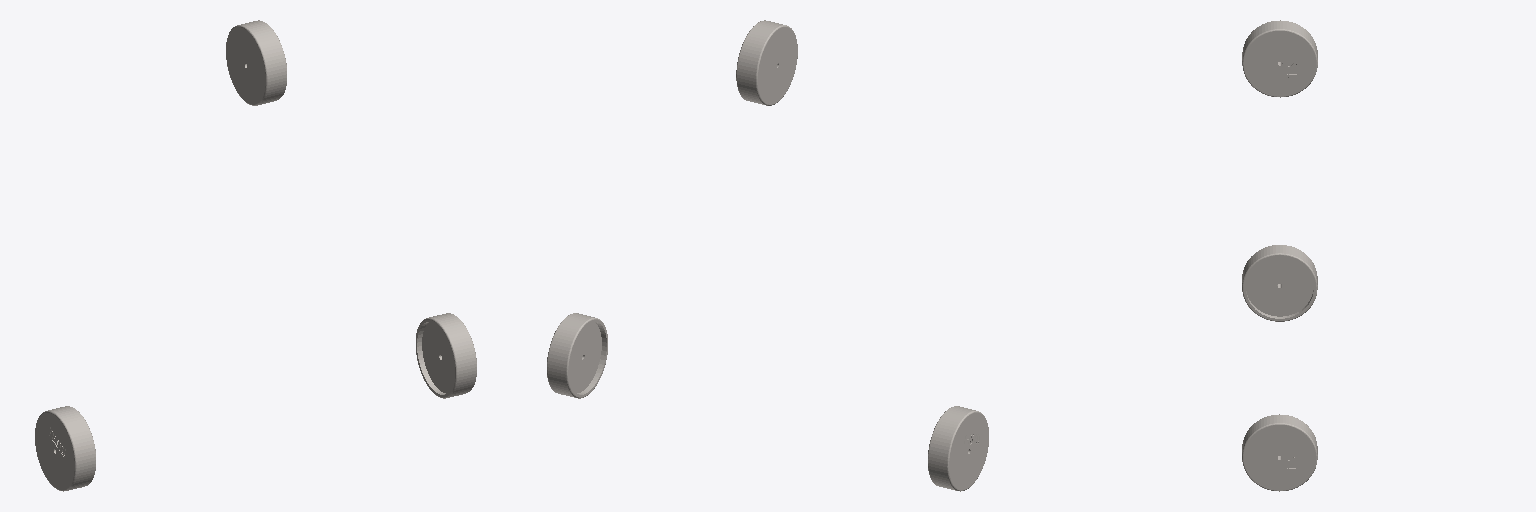
robot.urdf — Prototype:
<?xml version="1.0" encoding="utf-8"?>
<!-- This URDF was automatically created by SolidWorks to URDF Exporter! Originally created by [author] ([email redacted]) 
     Commit Version: 1.5.1-0-g916b5db  Build Version: 1.5.7152.31018
     For more information, please see http://wiki.ros.org/sw_urdf_exporter -->
<robot
  name="Prototype">
  <link
    name="base_link">
    <inertial>
      <origin
        xyz="-0.00606939404827942 0.0201490999952706 0.843082728351589"
        rpy="0 0 0" />
      <mass
        value="6.9314537629567" />
      <inertia
        ixx="0.0232965028672793"
        ixy="-2.6181529801014E-07"
        ixz="-8.22791912855144E-07"
        iyy="0.0242233322197356"
        iyz="-1.53624849402866E-05"
        izz="0.0151111822650949" />
    </inertial>
    <visual>
      <origin
        xyz="0 0 0"
        rpy="0 0 0" />
      <geometry>
        <mesh
          filename="package://Prototype/meshes/base_link.STL" />
      </geometry>
      <material
        name="">
        <color
          rgba="0.752941176470588 0.752941176470588 0.752941176470588 1" />
      </material>
    </visual>
    <collision>
      <origin
        xyz="0 0 0"
        rpy="0 0 0" />
      <geometry>
        <mesh
          filename="package://Prototype/meshes/base_link.STL" />
      </geometry>
    </collision>
  </link>
  <link
    name="RFW">
    <inertial>
      <origin
        xyz="0.017684 0 0"
        rpy="0 0 0" />
      <mass
        value="0.19359" />
      <inertia
        ixx="0.00025308"
        ixy="-1.8245E-21"
        ixz="1.6728E-21"
        iyy="0.00013682"
        iyz="-3.3881E-21"
        izz="0.00013682" />
    </inertial>
    <visual>
      <origin
        xyz="0 0 0"
        rpy="0 0 0" />
      <geometry>
        <mesh
          filename="package://Prototype/meshes/RFW.STL" />
      </geometry>
      <material
        name="">
        <color
          rgba="1 1 1 1" />
      </material>
    </visual>
    <collision>
      <origin
        xyz="0 0 0"
        rpy="0 0 0" />
      <geometry>
        <mesh
          filename="package://Prototype/meshes/RFW.STL" />
      </geometry>
    </collision>
  </link>
  <joint
    name="RFW"
    type="continuous">
    <origin
      xyz="-0.17835 -0.92522 -0.073373"
      rpy="1.226 0 3.1416" />
    <parent
      link="base_link" />
    <child
      link="RFW" />
    <axis
      xyz="1 0 0" />
    <limit
      effort="3.1"
      velocity="7" />
  </joint>
  <link
    name="LFW">
    <inertial>
      <origin
        xyz="0.017684 0 0"
        rpy="0 0 0" />
      <mass
        value="0.19359" />
      <inertia
        ixx="0.00025308"
        ixy="-5.8809E-37"
        ixz="5.171E-21"
        iyy="0.00013682"
        iyz="7.1756E-37"
        izz="0.00013682" />
    </inertial>
    <visual>
      <origin
        xyz="0 0 0"
        rpy="0 0 0" />
      <geometry>
        <mesh
          filename="package://Prototype/meshes/LFW.STL" />
      </geometry>
      <material
        name="">
        <color
          rgba="1 1 1 1" />
      </material>
    </visual>
    <collision>
      <origin
        xyz="0 0 0"
        rpy="0 0 0" />
      <geometry>
        <mesh
          filename="package://Prototype/meshes/LFW.STL" />
      </geometry>
    </collision>
  </link>
  <joint
    name="LFW"
    type="continuous">
    <origin
      xyz="0.16515 -0.92522 -0.073371"
      rpy="1.5708 0 0" />
    <parent
      link="base_link" />
    <child
      link="LFW" />
    <axis
      xyz="1 0 0" />
    <limit
      effort="3.1"
      velocity="7" />
  </joint>
  <link
    name="RBW">
    <inertial>
      <origin
        xyz="0.017684 0 0"
        rpy="0 0 0" />
      <mass
        value="0.19359" />
      <inertia
        ixx="0.00025308"
        ixy="1.4759E-22"
        ixz="2.2103E-20"
        iyy="0.00013682"
        iyz="-3.1764E-22"
        izz="0.00013682" />
    </inertial>
    <visual>
      <origin
        xyz="0 0 0"
        rpy="0 0 0" />
      <geometry>
        <mesh
          filename="package://Prototype/meshes/RBW.STL" />
      </geometry>
      <material
        name="">
        <color
          rgba="1 1 1 1" />
      </material>
    </visual>
    <collision>
      <origin
        xyz="0 0 0"
        rpy="0 0 0" />
      <geometry>
        <mesh
          filename="package://Prototype/meshes/RBW.STL" />
      </geometry>
    </collision>
  </link>
  <joint
    name="RBW"
    type="continuous">
    <origin
      xyz="-0.17835 -0.75522 -0.073373"
      rpy="-3.1322 0 3.1416" />
    <parent
      link="base_link" />
    <child
      link="RBW" />
    <axis
      xyz="1 0 0" />
    <limit
      effort="3.1"
      velocity="7" />
  </joint>
  <link
    name="LBW">
    <inertial>
      <origin
        xyz="0.017684 0 0"
        rpy="0 0 0" />
      <mass
        value="0.19359" />
      <inertia
        ixx="0.00025308"
        ixy="-5.8809E-37"
        ixz="5.171E-21"
        iyy="0.00013682"
        iyz="7.1756E-37"
        izz="0.00013682" />
    </inertial>
    <visual>
      <origin
        xyz="0 0 0"
        rpy="0 0 0" />
      <geometry>
        <mesh
          filename="package://Prototype/meshes/LBW.STL" />
      </geometry>
      <material
        name="">
        <color
          rgba="1 1 1 1" />
      </material>
    </visual>
    <collision>
      <origin
        xyz="0 0 0"
        rpy="0 0 0" />
      <geometry>
        <mesh
          filename="package://Prototype/meshes/LBW.STL" />
      </geometry>
    </collision>
  </link>
  <joint
    name="LBW"
    type="continuous">
    <origin
      xyz="0.16515 -0.75582 -0.073371"
      rpy="1.5708 0 0" />
    <parent
      link="base_link" />
    <child
      link="LBW" />
    <axis
      xyz="1 0 0" />
    <limit
      effort="3.1"
      velocity="7" />
  </joint>
  <link
    name="RFS">
    <inertial>
      <origin
        xyz="2.7756E-17 1.1102E-16 0.0425"
        rpy="0 0 0" />
      <mass
        value="0.2618" />
      <inertia
        ixx="0.00016635"
        ixy="2.1965E-21"
        ixz="-2.1222E-20"
        iyy="0.00016635"
        iyz="-4.4187E-23"
        izz="1.7453E-05" />
    </inertial>
    <visual>
      <origin
        xyz="0 0 0"
        rpy="0 0 0" />
      <geometry>
        <mesh
          filename="package://Prototype/meshes/RFS.STL" />
      </geometry>
      <material
        name="">
        <color
          rgba="0.77647 0.75686 0.73725 1" />
      </material>
    </visual>
    <collision>
      <origin
        xyz="0 0 0"
        rpy="0 0 0" />
      <geometry>
        <mesh
          filename="package://Prototype/meshes/RFS.STL" />
      </geometry>
    </collision>
  </link>
  <joint
    name="RFS"
    type="prismatic">
    <origin
      xyz="-0.1496 -0.93882 -0.024587"
      rpy="0 0 0" />
    <parent
      link="base_link" />
    <child
      link="RFS" />
    <axis
      xyz="0 0 0" />
    <limit
      lower="0"
      upper="0"
      effort="0"
      velocity="0" />
  </joint>
  <link
    name="LFS">
    <inertial>
      <origin
        xyz="0 1.1102E-16 0.0425"
        rpy="0 0 0" />
      <mass
        value="0.2618" />
      <inertia
        ixx="0.00016635"
        ixy="5.4212E-21"
        ixz="-6.9019E-21"
        iyy="0.00016635"
        iyz="2.1741E-21"
        izz="1.7453E-05" />
    </inertial>
    <visual>
      <origin
        xyz="0 0 0"
        rpy="0 0 0" />
      <geometry>
        <mesh
          filename="package://Prototype/meshes/LFS.STL" />
      </geometry>
      <material
        name="">
        <color
          rgba="0.77647 0.75686 0.73725 1" />
      </material>
    </visual>
    <collision>
      <origin
        xyz="0 0 0"
        rpy="0 0 0" />
      <geometry>
        <mesh
          filename="package://Prototype/meshes/LFS.STL" />
      </geometry>
    </collision>
  </link>
  <joint
    name="LFS"
    type="prismatic">
    <origin
      xyz="0.1364 -0.93882 -0.024586"
      rpy="0 0 0" />
    <parent
      link="base_link" />
    <child
      link="LFS" />
    <axis
      xyz="0 0 0" />
    <limit
      lower="0"
      upper="0"
      effort="0"
      velocity="0" />
  </joint>
  <link
    name="RBS">
    <inertial>
      <origin
        xyz="2.7756E-17 0 0.0425"
        rpy="0 0 0" />
      <mass
        value="0.2618" />
      <inertia
        ixx="0.00016635"
        ixy="3.3201E-21"
        ixz="-1.4207E-20"
        iyy="0.00016635"
        iyz="-5.0309E-20"
        izz="1.7453E-05" />
    </inertial>
    <visual>
      <origin
        xyz="0 0 0"
        rpy="0 0 0" />
      <geometry>
        <mesh
          filename="package://Prototype/meshes/RBS.STL" />
      </geometry>
      <material
        name="">
        <color
          rgba="0.77647 0.75686 0.73725 1" />
      </material>
    </visual>
    <collision>
      <origin
        xyz="0 0 0"
        rpy="0 0 0" />
      <geometry>
        <mesh
          filename="package://Prototype/meshes/RBS.STL" />
      </geometry>
    </collision>
  </link>
  <joint
    name="RBS"
    type="prismatic">
    <origin
      xyz="-0.1496 -0.76882 -0.024587"
      rpy="0 0 0" />
    <parent
      link="base_link" />
    <child
      link="RBS" />
    <axis
      xyz="0 0 0" />
    <limit
      lower="0"
      upper="0"
      effort="0"
      velocity="0" />
  </joint>
  <link
    name="LBS">
    <inertial>
      <origin
        xyz="0 0 0.0425"
        rpy="0 0 0" />
      <mass
        value="0.2618" />
      <inertia
        ixx="0.00016635"
        ixy="3.6329E-21"
        ixz="1.5466E-20"
        iyy="0.00016635"
        iyz="-1.1539E-20"
        izz="1.7453E-05" />
    </inertial>
    <visual>
      <origin
        xyz="0 0 0"
        rpy="0 0 0" />
      <geometry>
        <mesh
          filename="package://Prototype/meshes/LBS.STL" />
      </geometry>
      <material
        name="">
        <color
          rgba="0.77647 0.75686 0.73725 1" />
      </material>
    </visual>
    <collision>
      <origin
        xyz="0 0 0"
        rpy="0 0 0" />
      <geometry>
        <mesh
          filename="package://Prototype/meshes/LBS.STL" />
      </geometry>
    </collision>
  </link>
  <joint
    name="LBS"
    type="prismatic">
    <origin
      xyz="0.1364 -0.76882 -0.024586"
      rpy="0 0 0" />
    <parent
      link="base_link" />
    <child
      link="LBS" />
    <axis
      xyz="0 0 0" />
    <limit
      lower="0"
      upper="0"
      effort="0"
      velocity="0" />
  </joint>
</robot>

--- Facts derived from the render (not from the file) ---
3 views of the same robot in one strip: view 1: azimuth 30°, elevation 25°; view 2: azimuth 150°, elevation 25°; view 3: azimuth 270°, elevation 25° (orthographic).
Robot: Prototype — 9 links, 8 joints (4 continuous, 4 prismatic); root link base_link; default pose: all joints at 0.
Visible links, largest first — view 1: LFS; view 2: LFS; view 3: LFS.
Boxes of the visible links, left/top/right/bottom form: LFS: left=35, top=20, right=476, bottom=491; LFS: left=547, top=20, right=988, bottom=491; LFS: left=1242, top=20, right=1317, bottom=491.
Bounding box of the posed robot: 0.5615 × 0.1002 × 0.552 m (x, y, z).
1 mesh visuals loaded from 9 distinct referenced files (1 binary STL); not drawn: 8 (reference not matched to a file when rendering).